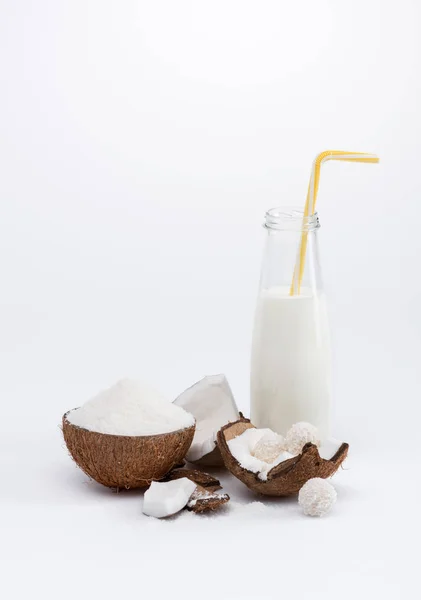glass_bottle: (240, 189, 344, 469)
